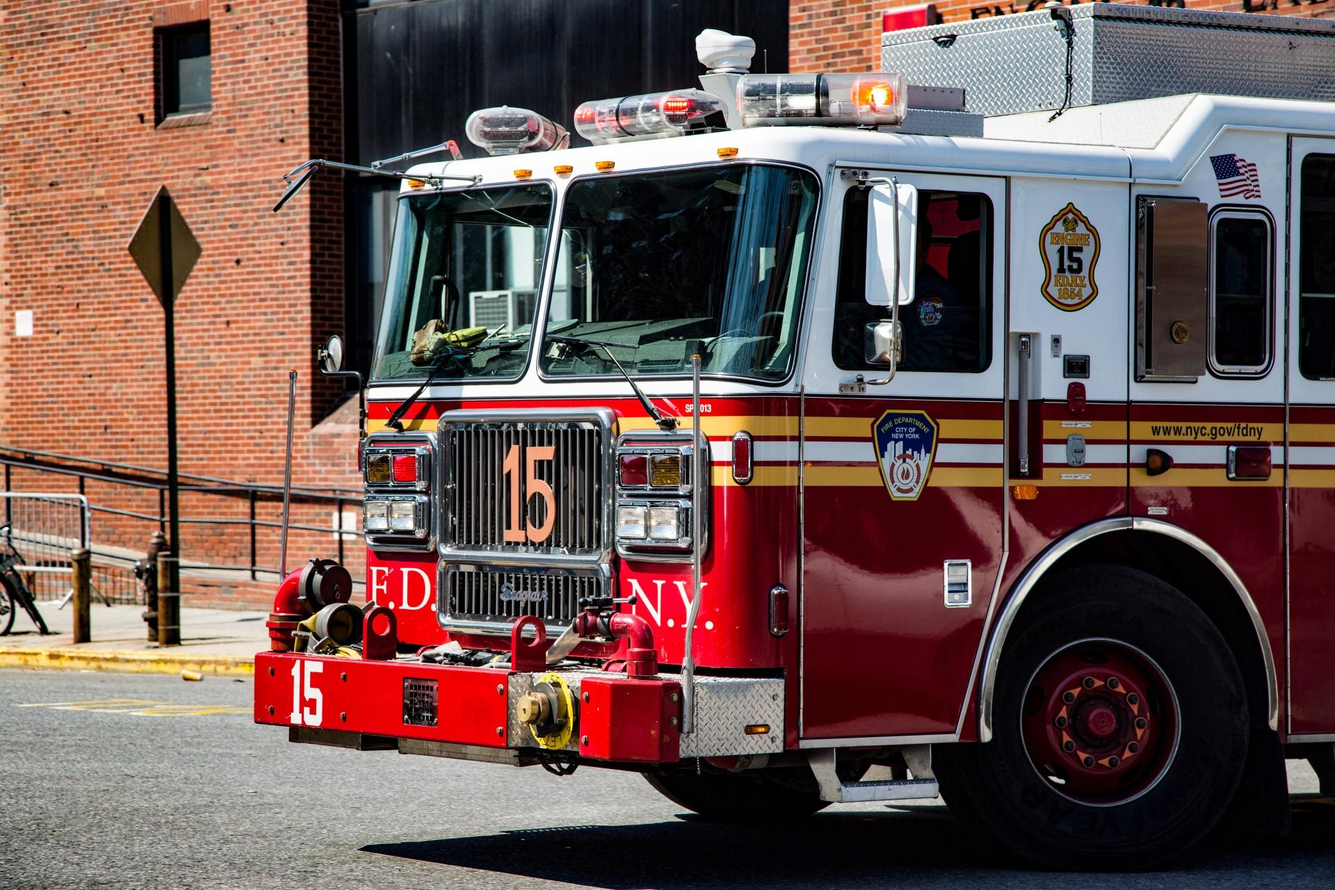Fire-engine: (252, 4, 1333, 871)
